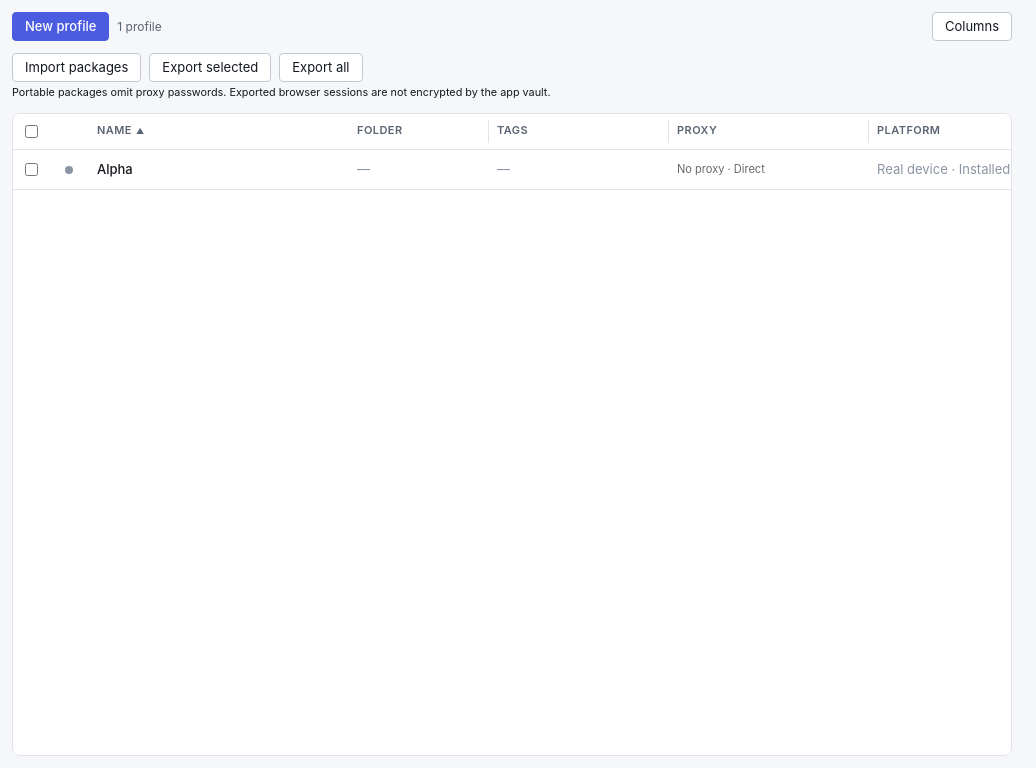
exports cookies to the chosen file and reports skipped cookies
Right-click the button "Alpha": (115, 169) left=97, top=160, right=133, bottom=178
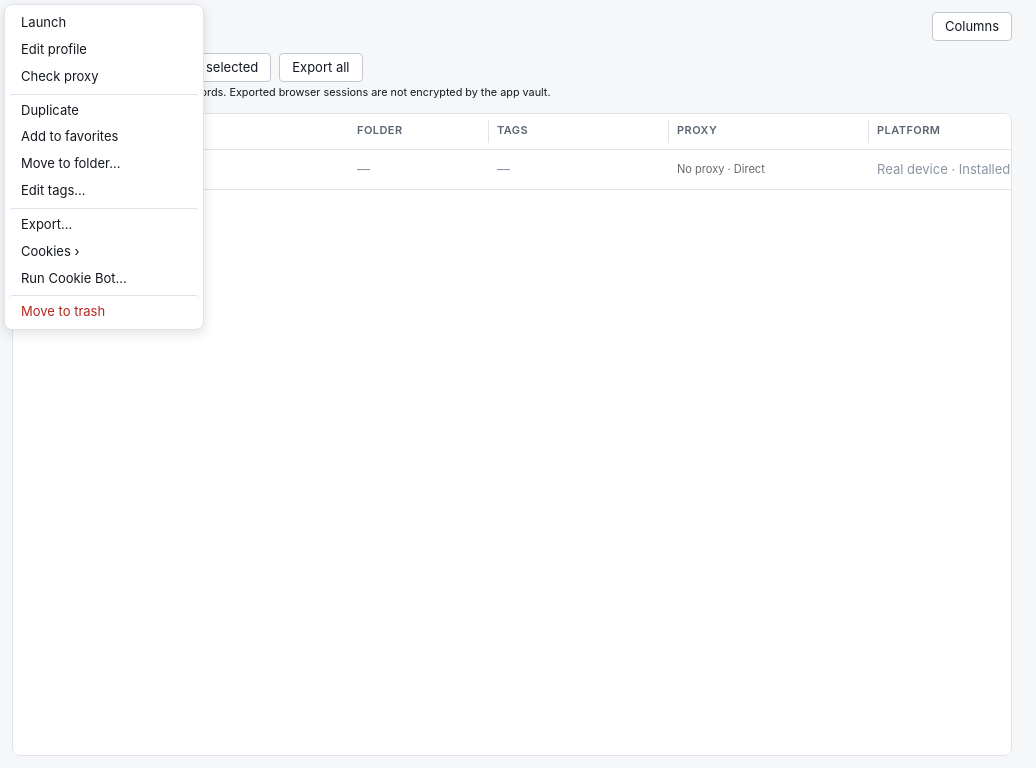
Click the menu item "Cookies ›": (104, 251) left=9, top=238, right=199, bottom=265
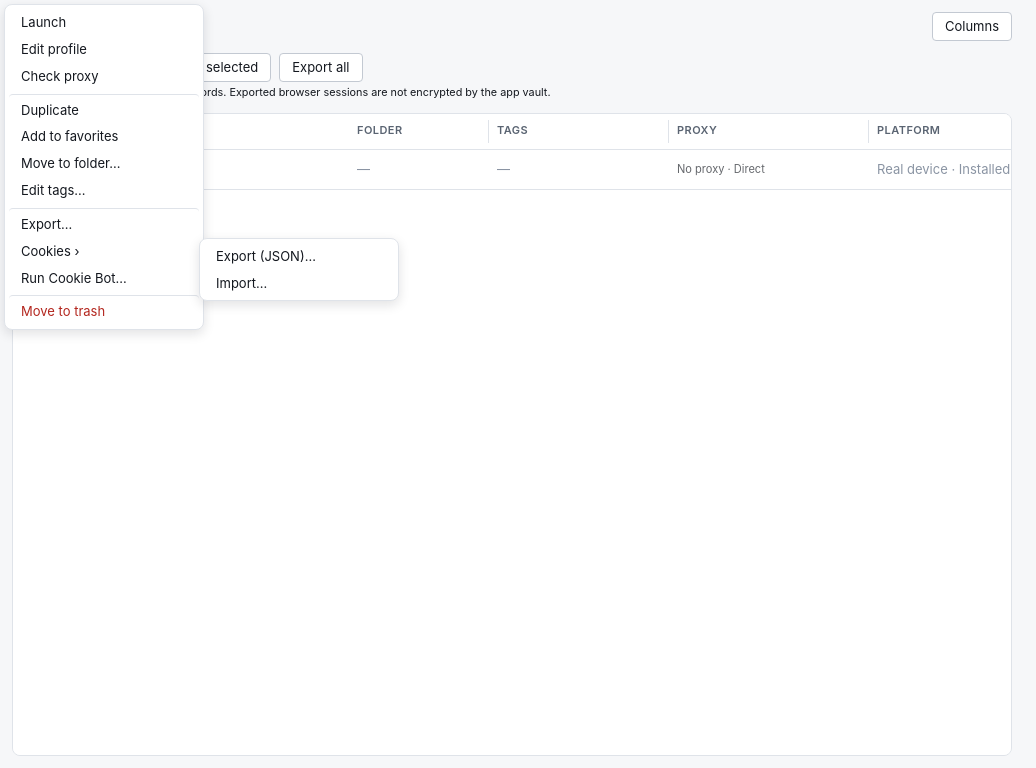
Click the menu item "Export (JSON)…": (299, 256) left=204, top=243, right=394, bottom=270
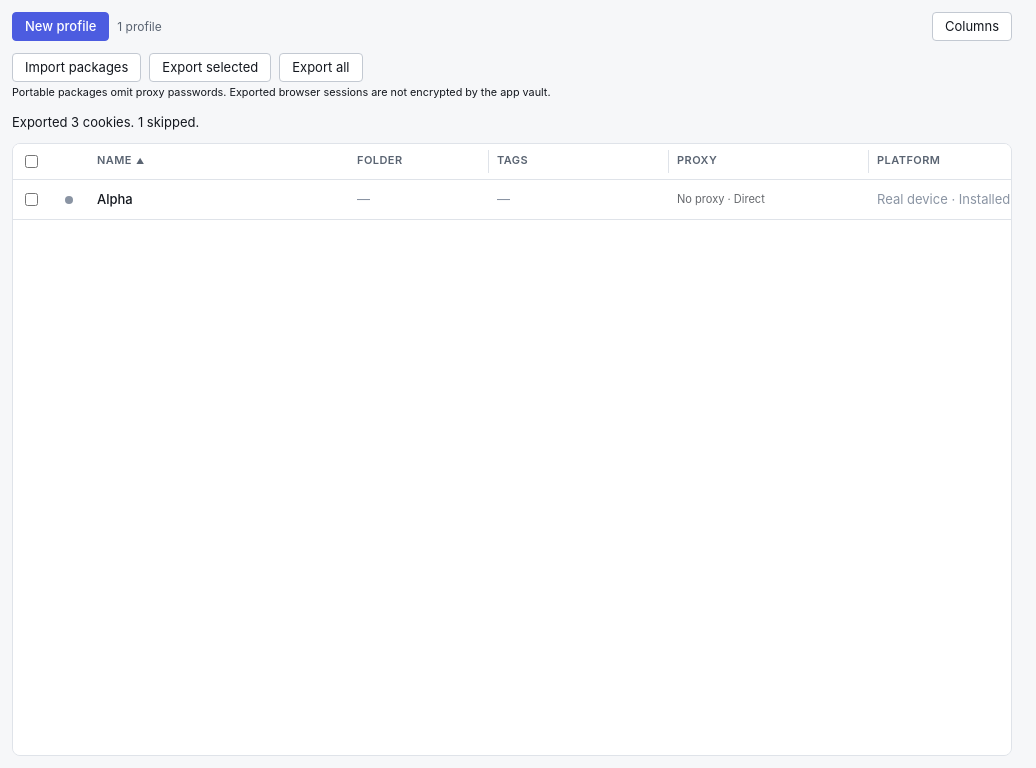
Expected: the text "Exported 3 cookies. 1 skipped." is shown, left=12, top=114, right=199, bottom=130
